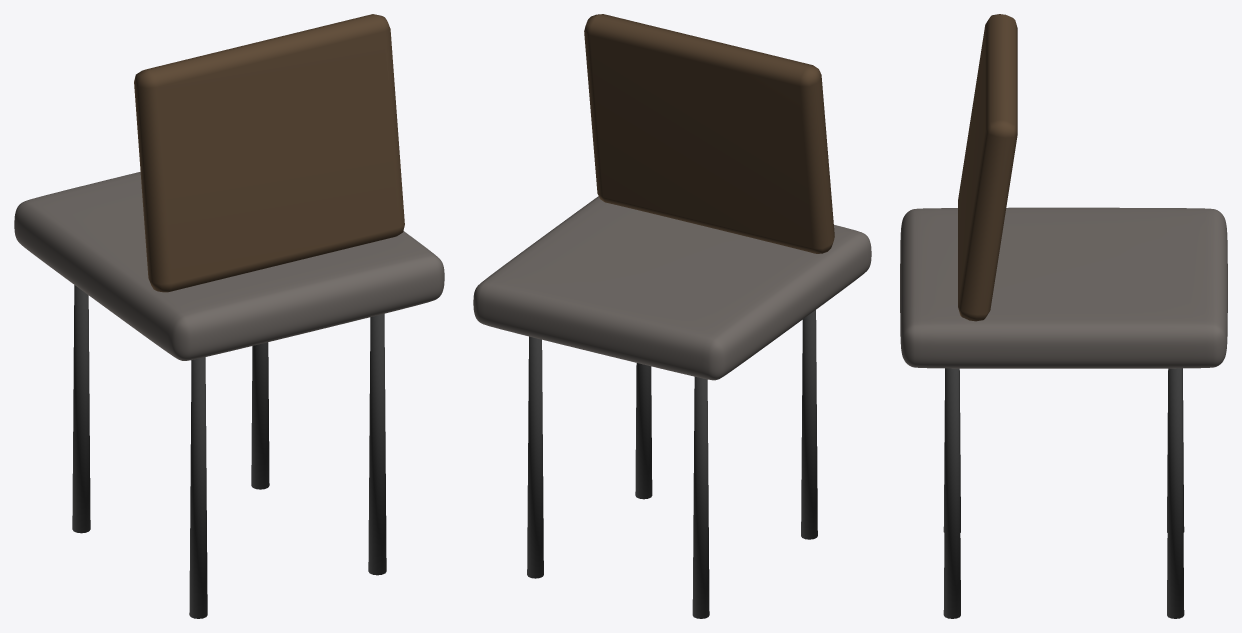
The model's file is chair.glb.
3 renders of one model, left to right at view 1: azimuth 30°, elevation 25°; view 2: azimuth 150°, elevation 25°; view 3: azimuth 270°, elevation 25°, orthographic. The views are drawn at different scales.
Parts seen in each view (by area): view 1: leg; view 2: leg; view 3: leg.
Boxes of the visible parts, bbox=[...] form: leg: bbox=[14, 14, 444, 618]; leg: bbox=[473, 14, 871, 618]; leg: bbox=[900, 14, 1227, 618].
Bounding box in the file's own units: 0.4596 × 0.8518 × 0.4996.
